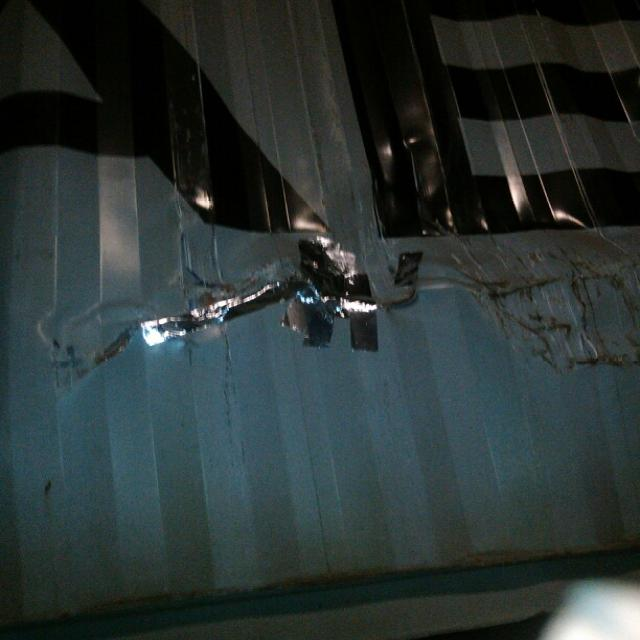dent: (48, 221, 640, 393)
